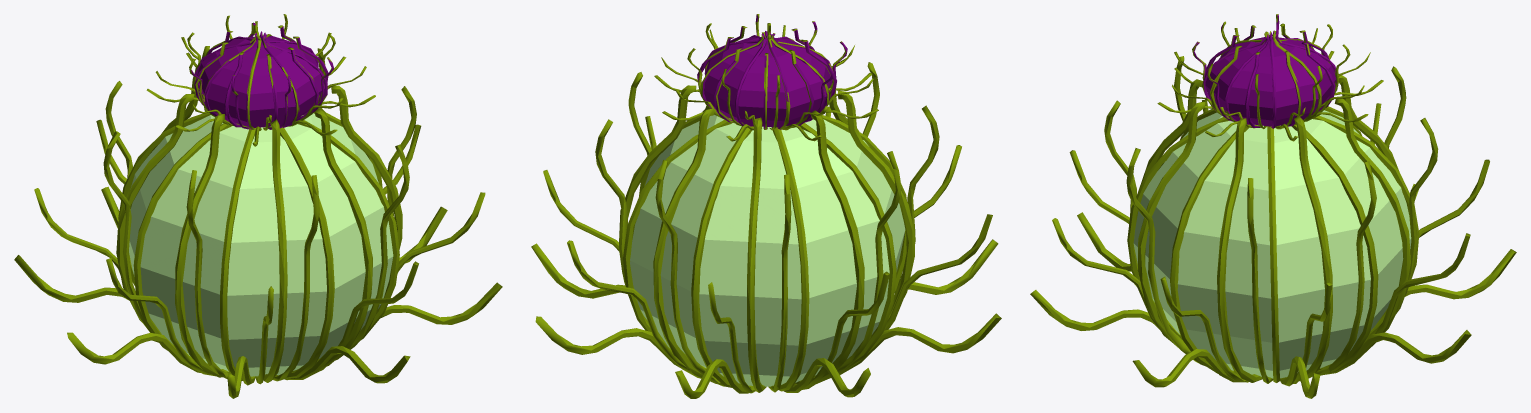
The model's file is SingleKlette.fbx.
3 renders of one model, left to right at view 1: azimuth 30°, elevation 25°; view 2: azimuth 150°, elevation 25°; view 3: azimuth 270°, elevation 25°, orthographic. The views are drawn at different scales.
Parts seen in each view (by area): view 1: polySurface159; view 2: polySurface159; view 3: polySurface159.
Boxes of the visible parts, x1,y1,x2,y2 form: polySurface159: (14, 14, 502, 398); polySurface159: (531, 14, 1001, 398); polySurface159: (1030, 14, 1516, 398).
Bounding box in the file's own units: 86.74 × 66.54 × 86.86.
1 material, 1 textured.
